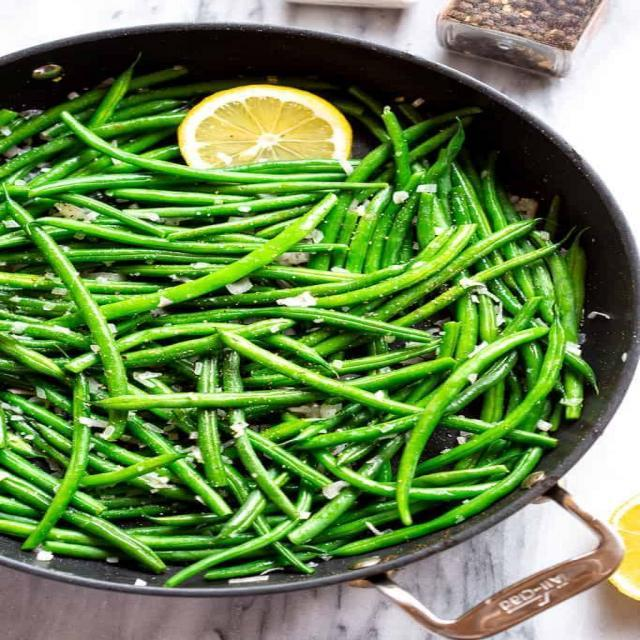Beans: (0, 61, 610, 584)
